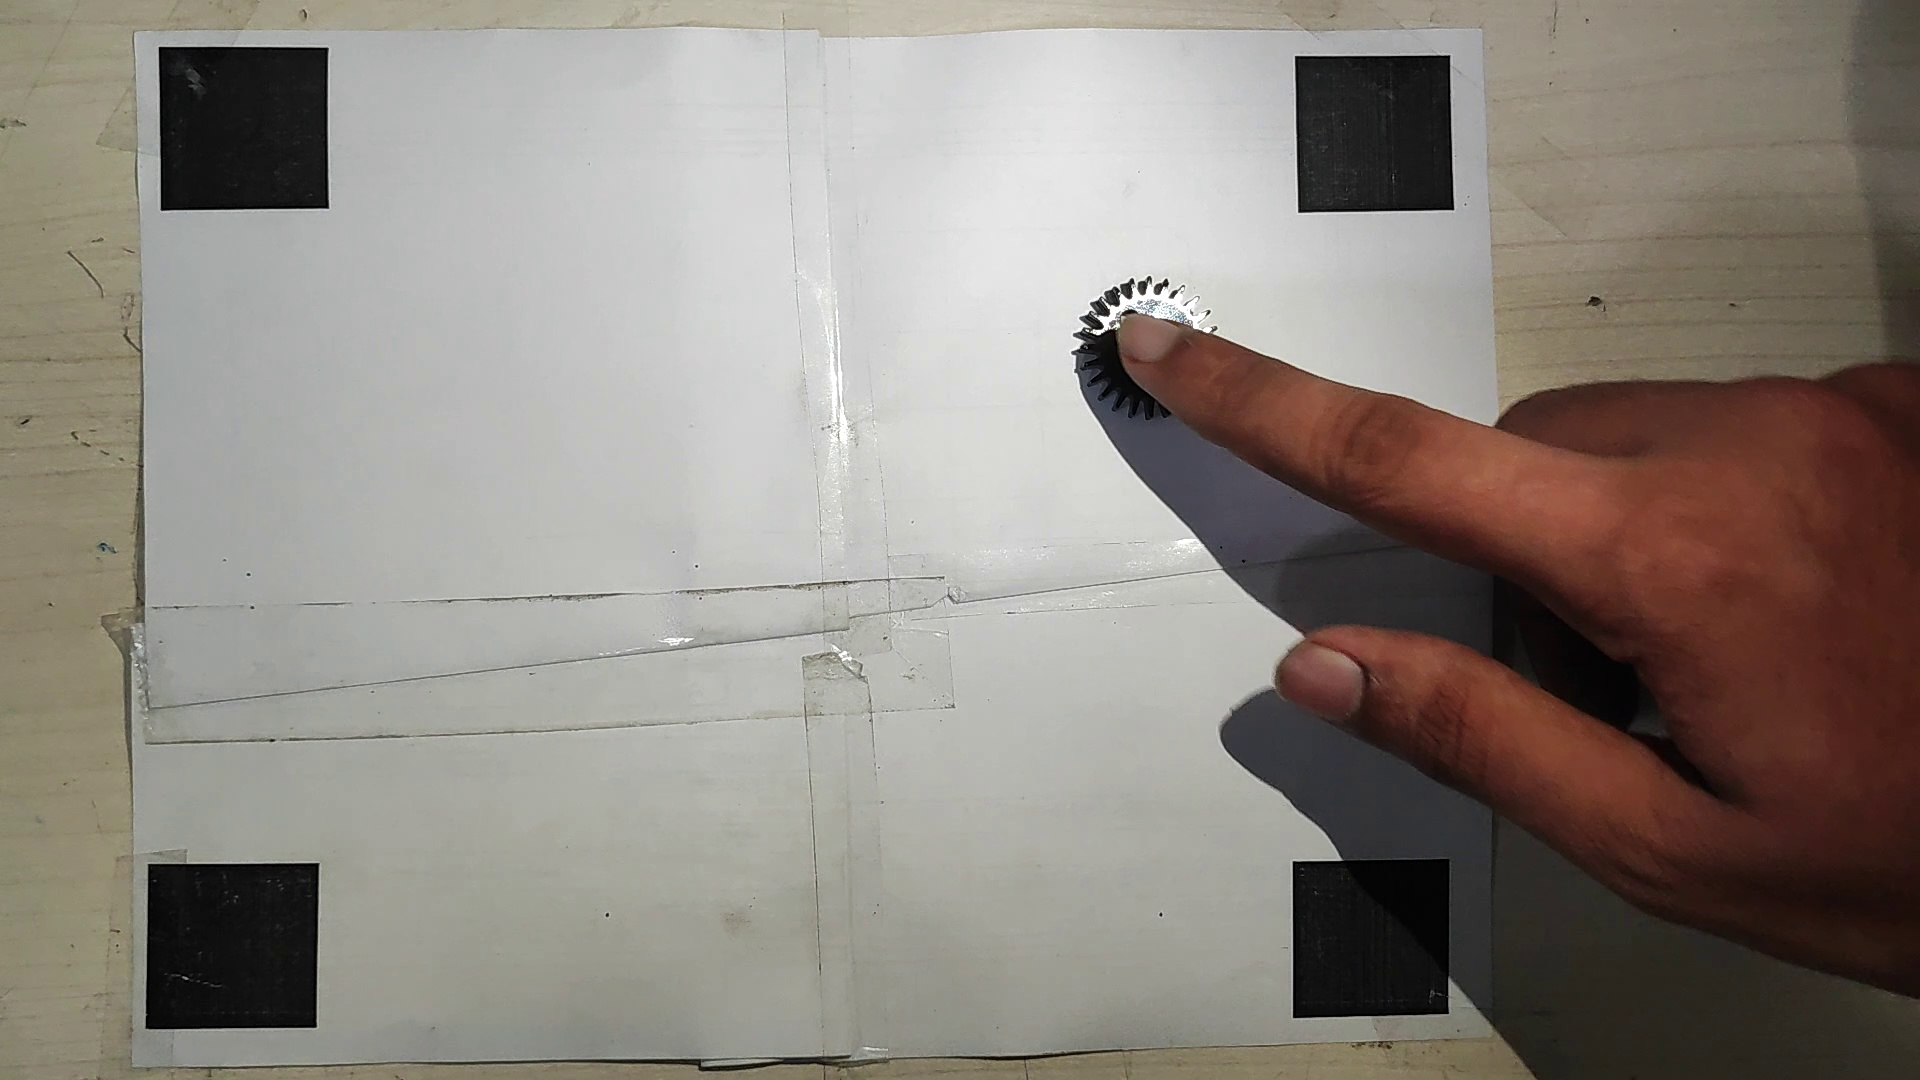Gear: (1069, 270, 1224, 429)
